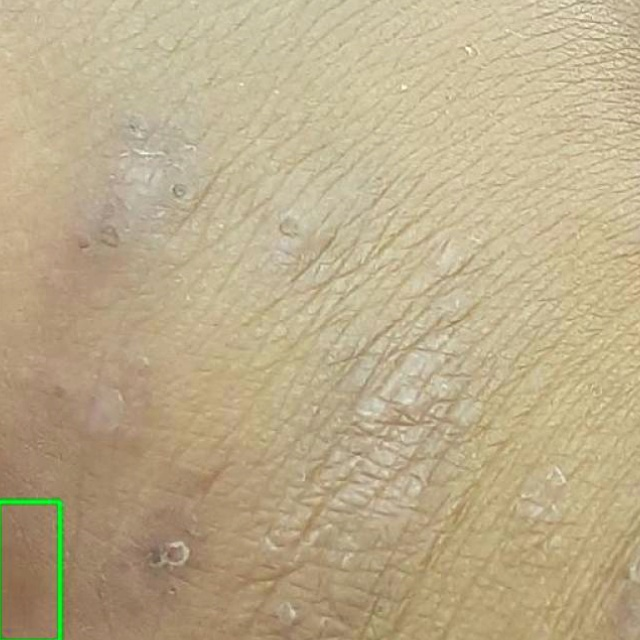Eczema: (0, 501, 59, 639)
